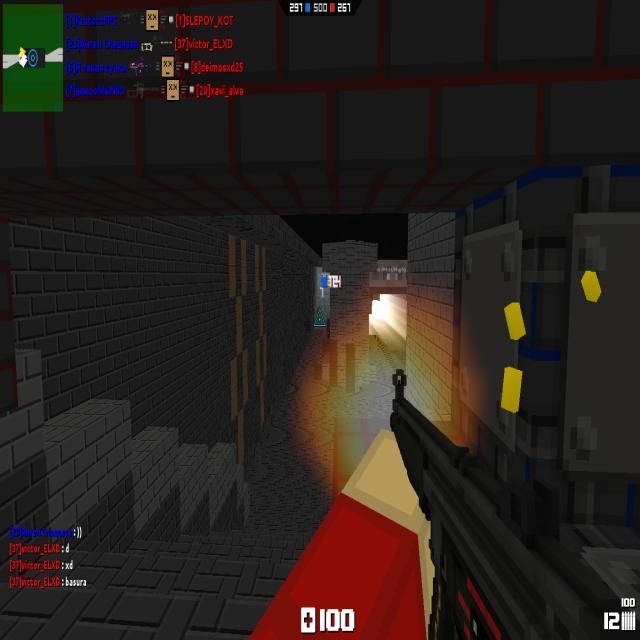enemy: (326, 331, 330, 338)
